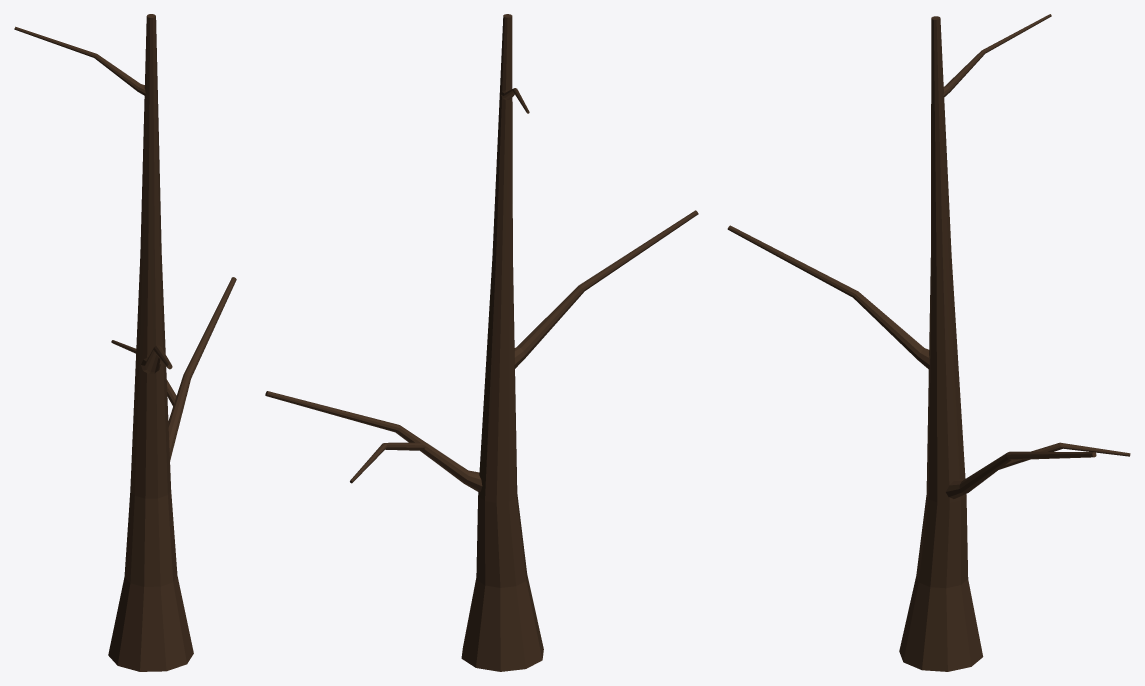
File: trunk.glb
3 renders of one model, left to right at view 1: azimuth 30°, elevation 25°; view 2: azimuth 150°, elevation 25°; view 3: azimuth 270°, elevation 25°, orthographic.
Visible parts, largest first — view 1: Tree_5; view 2: Tree_5; view 3: Tree_5.
Boxes of the visible parts, <box> form: Tree_5: <box>14,14,236,671</box>; Tree_5: <box>265,14,698,671</box>; Tree_5: <box>727,14,1130,671</box>.
Size of the model in its own units: 2.26 by 5.49 by 3.16.
